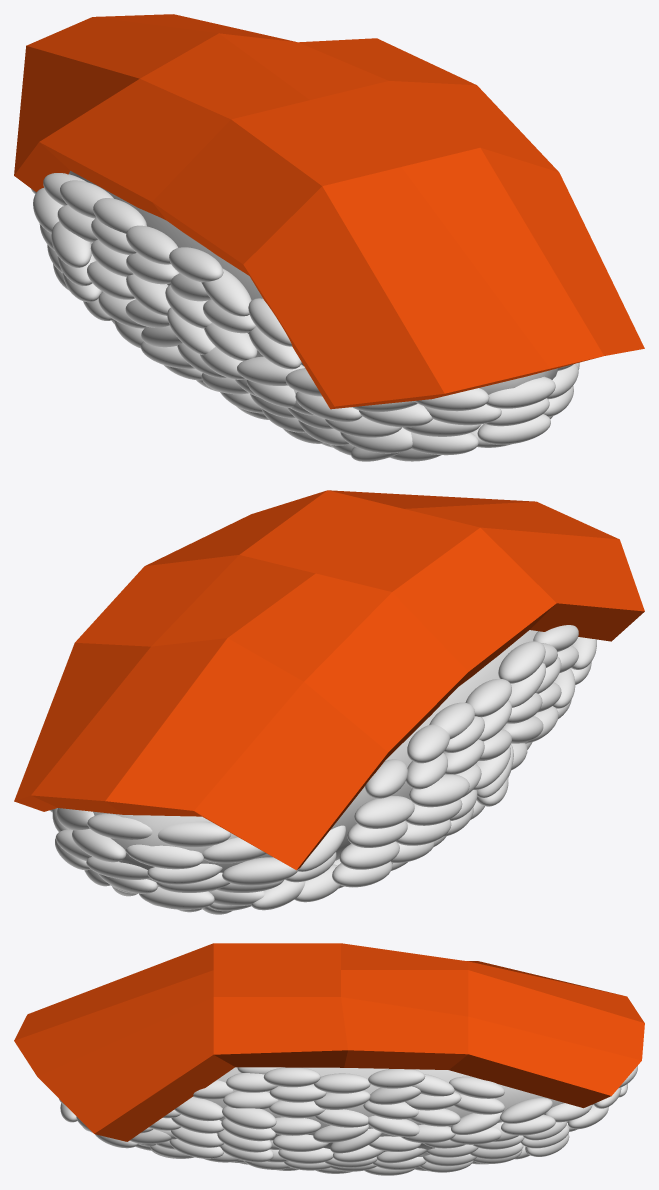
Rendered from slamon2.fbx.
The picture shows the model from 3 angles, top to bottom: view 1: azimuth 30°, elevation 25°; view 2: azimuth 150°, elevation 25°; view 3: azimuth 270°, elevation 25°; orthographic projection. The views are drawn at different scales.
Visible parts, largest first — view 1: 平面, 球, 球.148, 球.134, 球.155, 球.149, 球.158, 球.146, 球.115, 球.157, 球.081, 球.140 (+29 smaller); view 2: 平面, 球, 球.173, 球.114, 球.172, 球.174, 球.148, 球.115, 球.167, 球.081, 球.149, 球.110 (+28 smaller); view 3: 平面, 球, 球.009, 球.016, 球.006, 球.007, 球.040, 球.018, 球.041, 球.073, 球.012, 球.001 (+40 smaller).
Boxes of the visible parts, x1,y1,x2,y2 form: 平面: [14, 14, 644, 409]; 球: [69, 171, 557, 394]; 球.148: [169, 247, 223, 282]; 球.134: [201, 268, 251, 316]; 球.155: [486, 376, 555, 408]; 球.149: [126, 225, 178, 264]; 球.158: [477, 414, 550, 444]; 球.146: [93, 198, 146, 233]; 球.115: [51, 221, 91, 267]; 球.157: [411, 432, 478, 455]; 球.081: [60, 180, 113, 218]; 球.140: [204, 323, 257, 360]; 平面: [14, 490, 644, 870]; 球: [93, 630, 537, 891]; 球.173: [222, 857, 298, 885]; 球.114: [354, 796, 414, 828]; 球.172: [158, 821, 230, 847]; 球.174: [126, 844, 203, 869]; 球.148: [498, 641, 545, 683]; 球.115: [409, 774, 469, 807]; 球.167: [87, 814, 152, 839]; 球.081: [407, 724, 449, 763]; 球.149: [465, 678, 511, 717]; 球.110: [339, 841, 399, 869]; 平面: [14, 943, 644, 1141]; 球: [206, 1067, 593, 1156]; 球.009: [263, 1067, 320, 1087]; 球.016: [500, 1098, 552, 1123]; 球.006: [314, 1073, 370, 1093]; 球.007: [368, 1069, 425, 1088]; 球.040: [222, 1106, 276, 1129]; 球.018: [449, 1076, 504, 1098]; 球.041: [174, 1097, 223, 1121]; 球.073: [223, 1091, 278, 1109]; 球.012: [368, 1115, 420, 1137]; 球.001: [314, 1090, 370, 1109].
Bounding box in the file's own units: 242 × 165 × 495.
